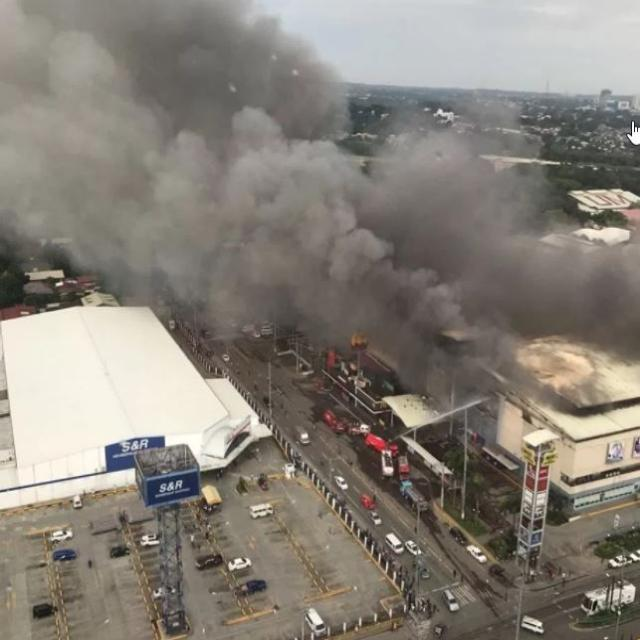Smoke: (0, 0, 632, 437)
